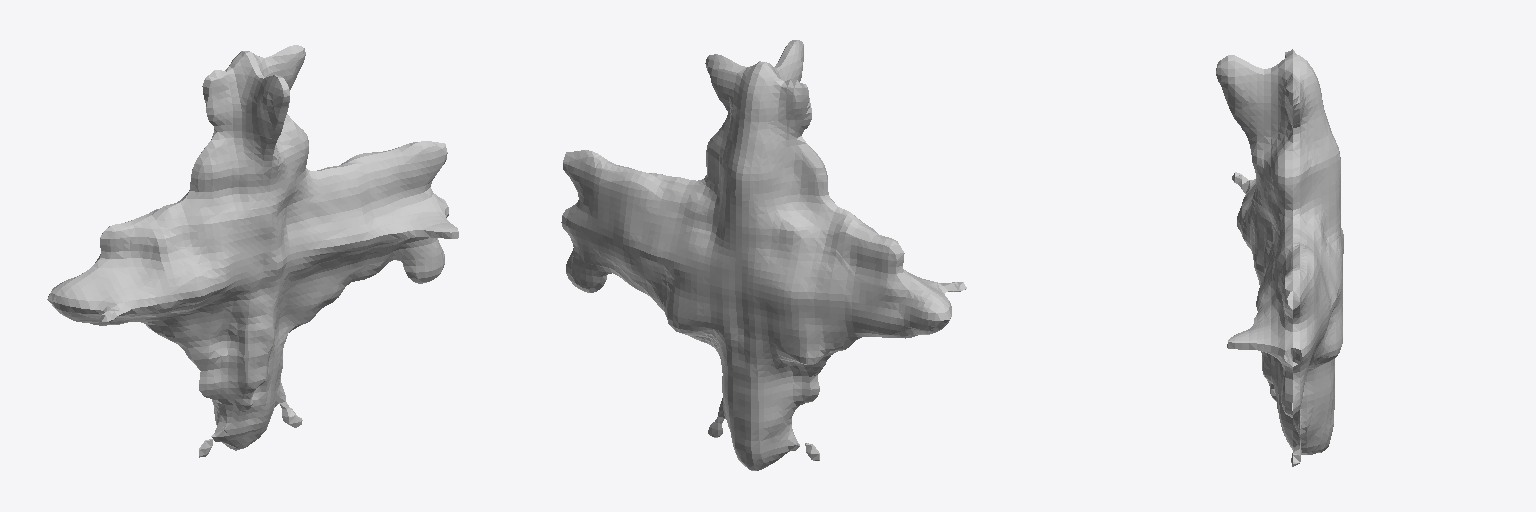
File: chair.obj
3 renders of one model, left to right at view 1: azimuth 30°, elevation 25°; view 2: azimuth 150°, elevation 25°; view 3: azimuth 270°, elevation 25°, orthographic.
Bounding box in the file's own units: 62.64 × 61.16 × 17.84.